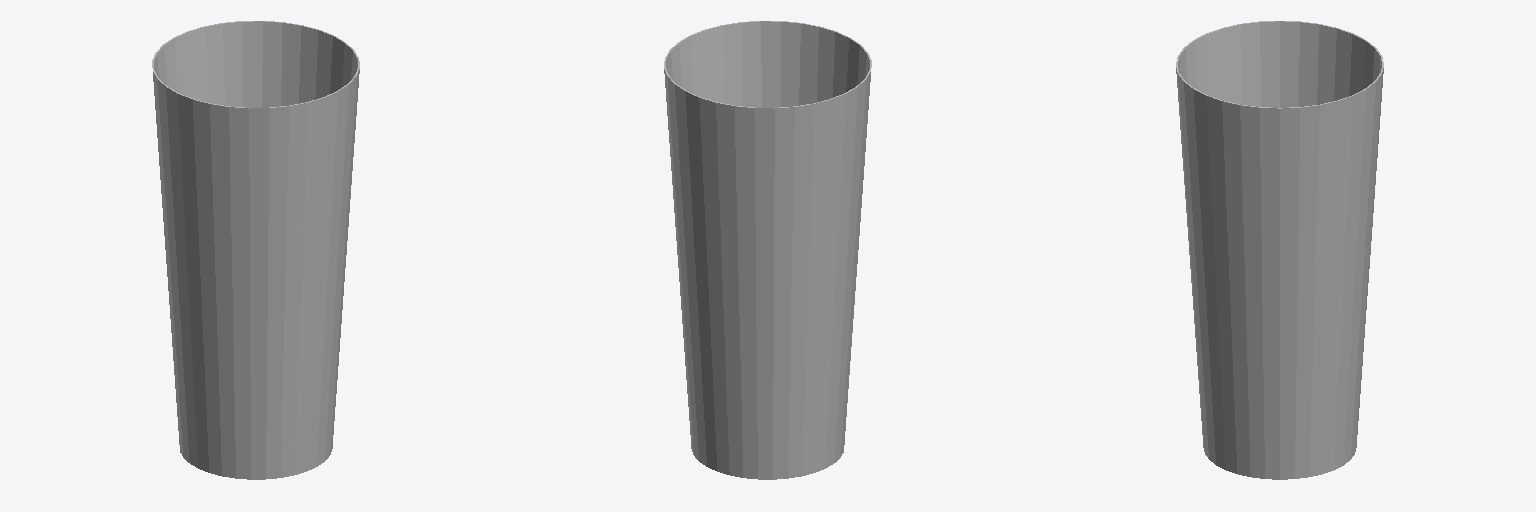
Rendered from Glass.obj.
The picture shows the model from 3 angles: view 1: azimuth 30°, elevation 25°; view 2: azimuth 150°, elevation 25°; view 3: azimuth 270°, elevation 25°; orthographic projection.
Parts seen in each view (by area): view 1: Cylinder_Cylinder.003; view 2: Cylinder_Cylinder.003; view 3: Cylinder_Cylinder.003.
Boxes of the visible parts, x1,y1,x2,y2 form: Cylinder_Cylinder.003: [152, 21, 359, 479]; Cylinder_Cylinder.003: [664, 21, 871, 479]; Cylinder_Cylinder.003: [1176, 21, 1383, 479].
Size of the model in its own units: 2.13 by 4.31 by 2.13.